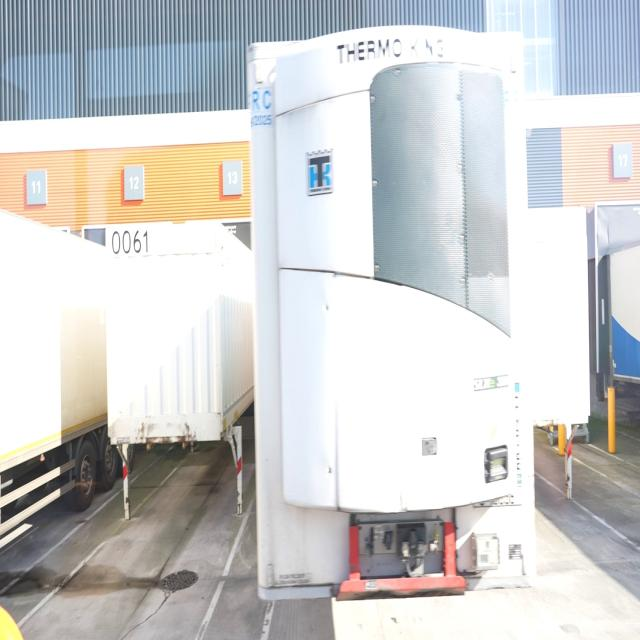Code: (108, 220, 152, 259)
